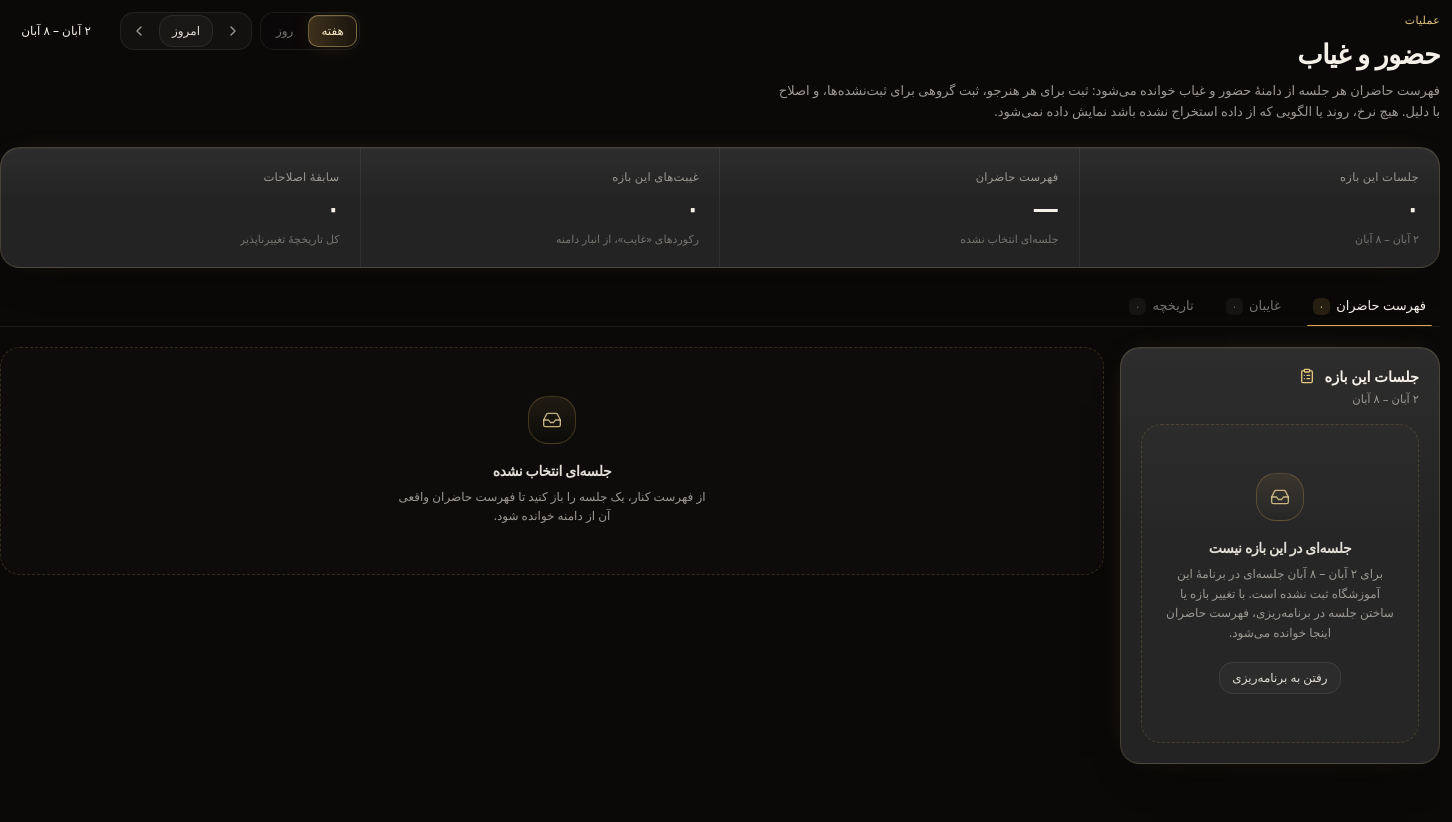
Test: a customer's own EMPTY environment › renders honest empty surfaces and no fabricated figure
Step 1. Click the tab "غایبان ۰" → (1253, 309), box [1212,292,1295,326]
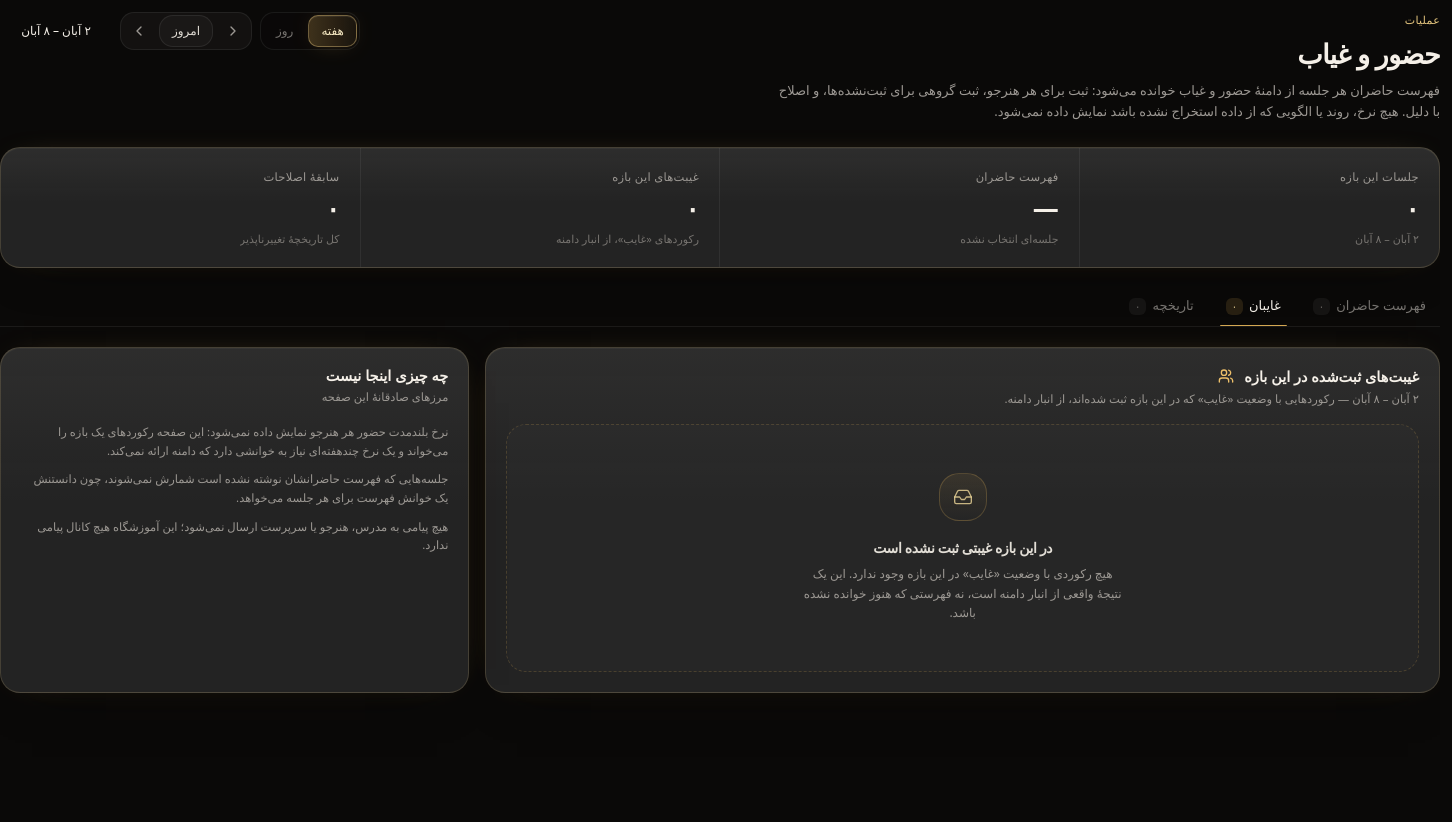
Check: the heading "در این بازه غیبتی ثبت نشده است" is shown, box [873,537,1052,558]
Step 2. Click the tab "تاریخچه ۰" → (1161, 309), box [1115,292,1208,326]
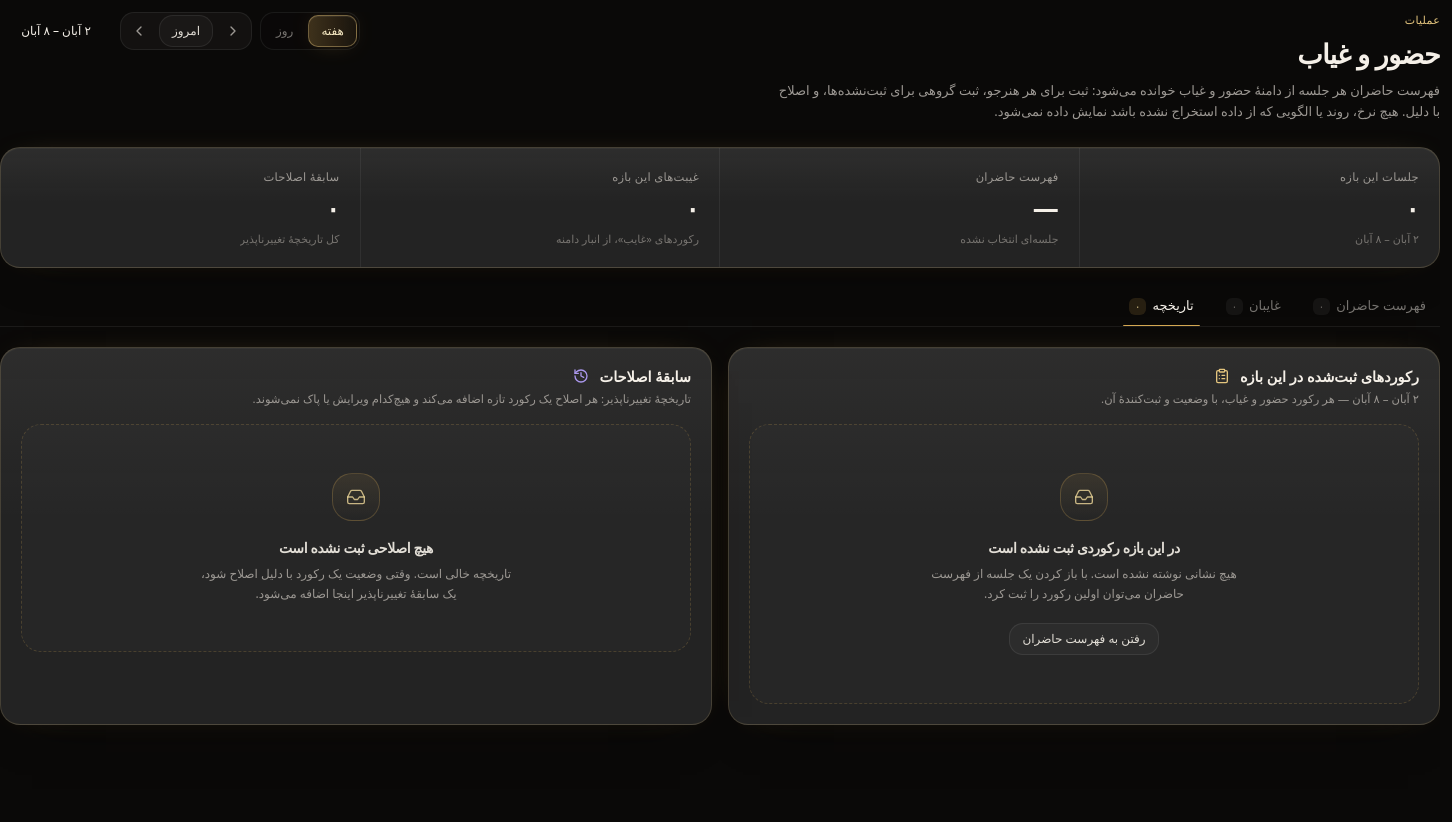
Check: the heading "هیچ اصلاحی ثبت نشده است" is shown, box [279,537,433,558]
Check: the heading "در این بازه رکوردی ثبت نشده است" is shown, box [988,537,1180,558]
